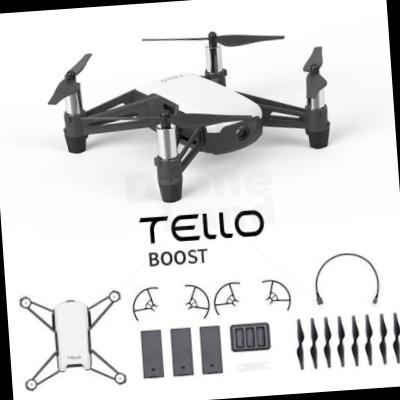drone: (28, 19, 365, 202)
